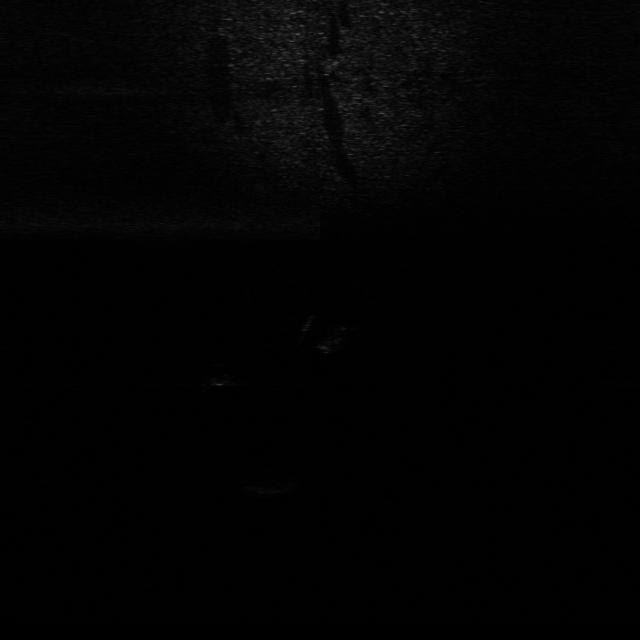ball: (206, 359, 240, 390)
circle cage: (244, 471, 300, 495)
human body: (298, 312, 362, 354)
